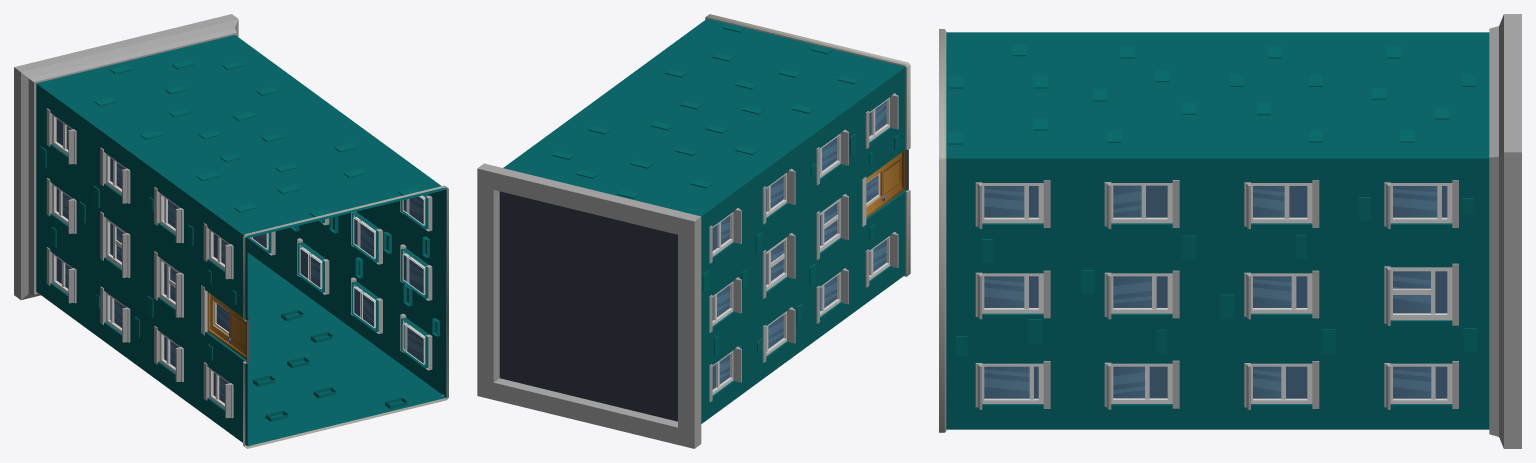
The model's file is Building_2_5_H.fbx.
3 renders of one model, left to right at view 1: azimuth 30°, elevation 25°; view 2: azimuth 150°, elevation 25°; view 3: azimuth 270°, elevation 25°, orthographic. The views are drawn at different scales.
Parts seen in each view (by area): view 1: Building_2_5_H; view 2: Building_2_5_H; view 3: Building_2_5_H.
Boxes of the visible parts, box(x1,y1,x2,y2) form: Building_2_5_H: box(14, 14, 448, 448); Building_2_5_H: box(477, 14, 910, 448); Building_2_5_H: box(939, 14, 1521, 448).
Size of the model in its own units: 620 by 620 by 1105.
